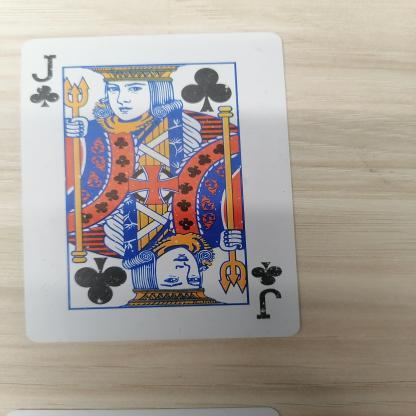JC: (24, 48, 74, 113), (248, 258, 294, 324)
